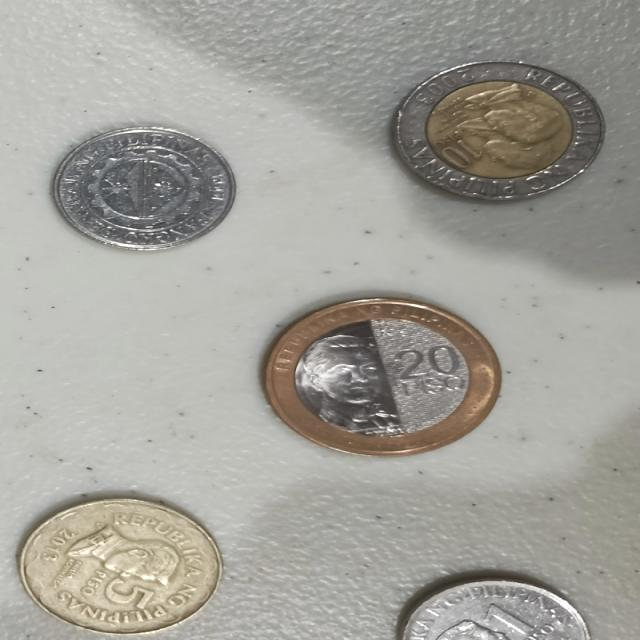10_peso: (394, 62, 601, 199)
1_peso: (55, 128, 233, 249), (401, 580, 590, 639)
20_peso: (266, 299, 498, 455)
5_peso: (21, 499, 221, 634)
